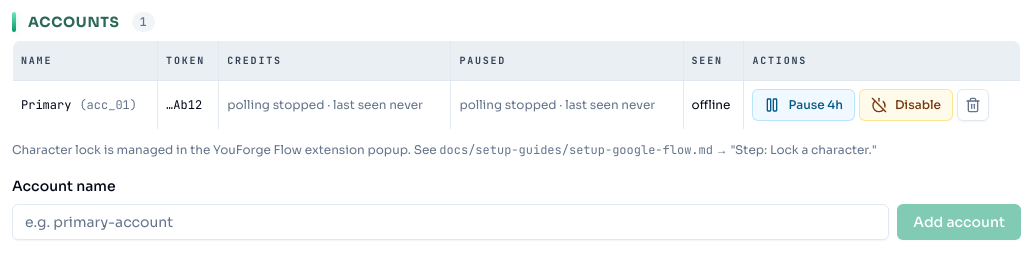
it: GoogleFlowAccounts — per-row actions › Escape cancels inline-edit without PATCHing
Click the button "Primary": [46, 105] box [21, 97, 71, 113]
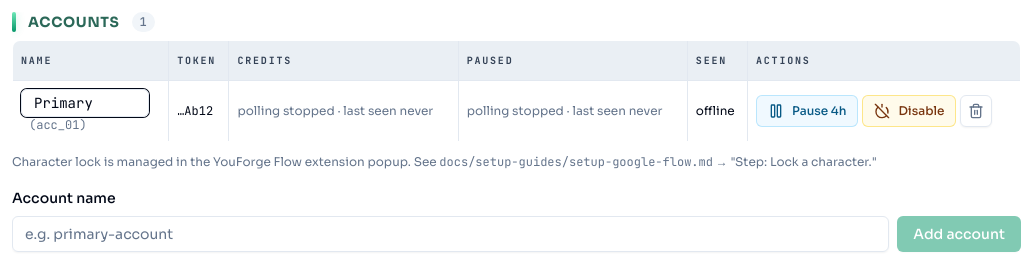
Replace the text in the field named "edit name acc_01" with "Typo": [85, 103] box [21, 89, 149, 117]
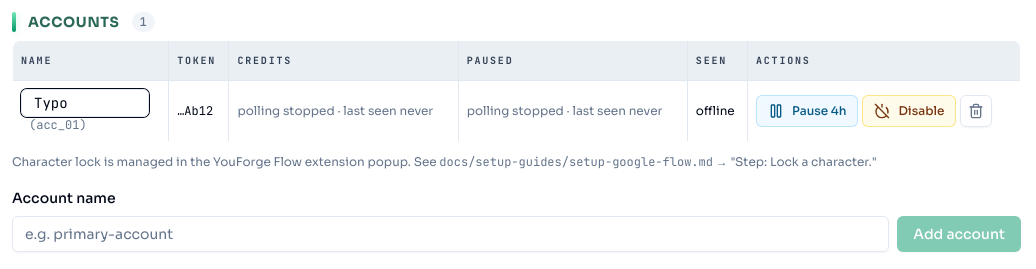
Press Escape in the field named "edit name acc_01", box [21, 89, 149, 117]
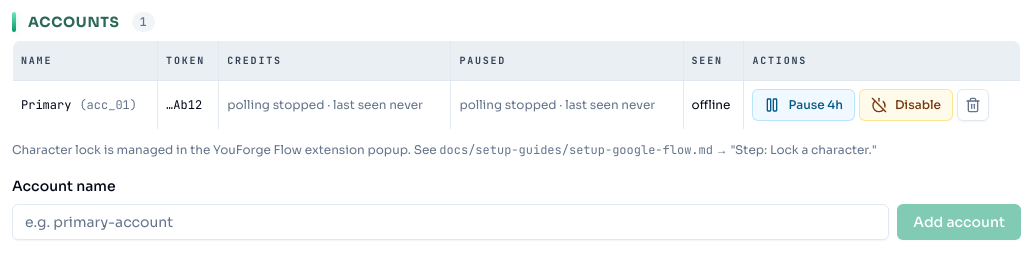
Check: the button "Primary" is shown, box [21, 97, 71, 113]
